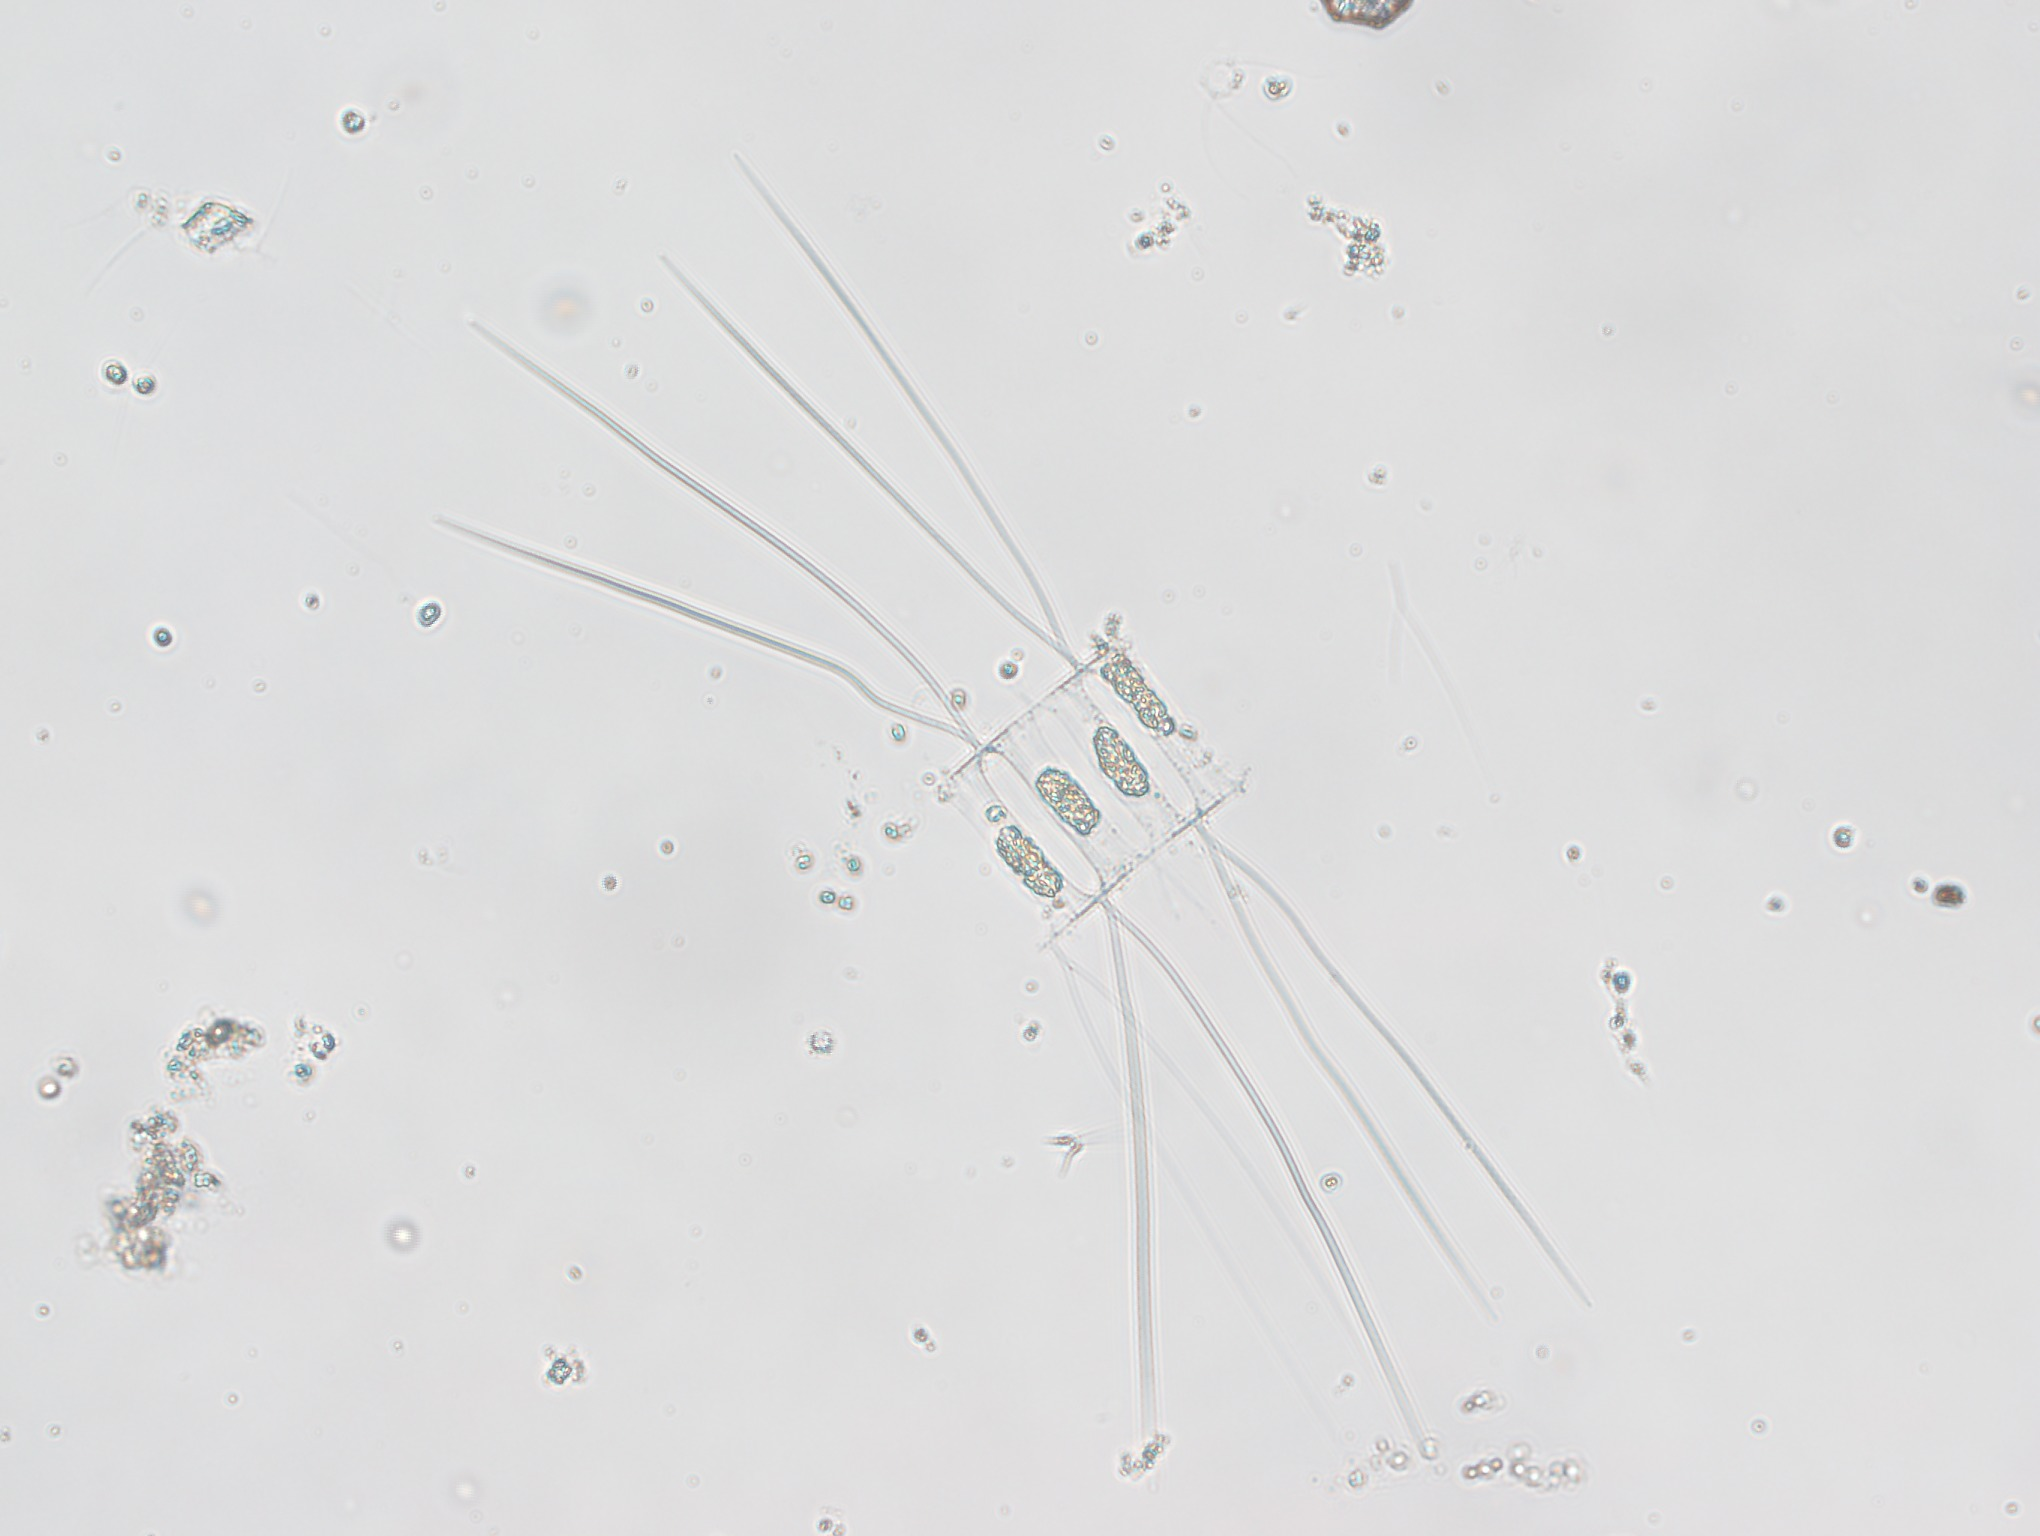chaetoceros: (390, 131, 1626, 1488)
